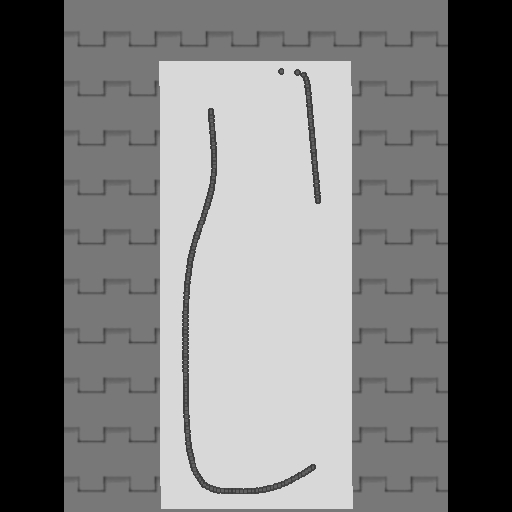Defect: (303, 201, 323, 467)
